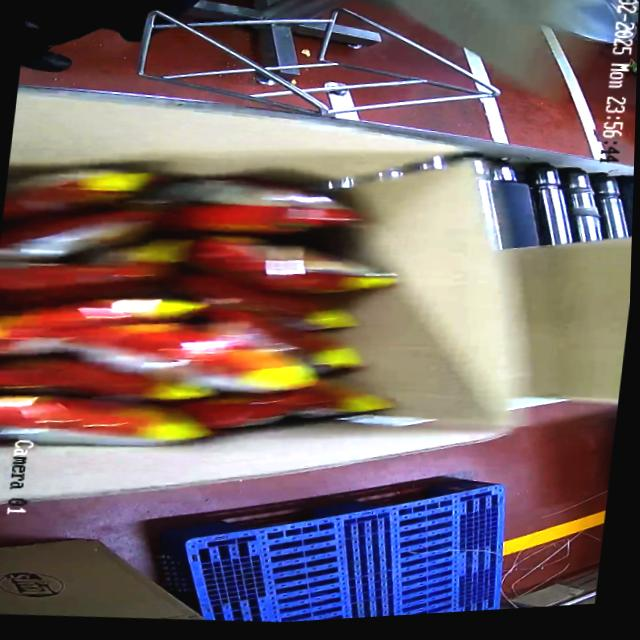MASALA: (0, 139, 409, 463)
